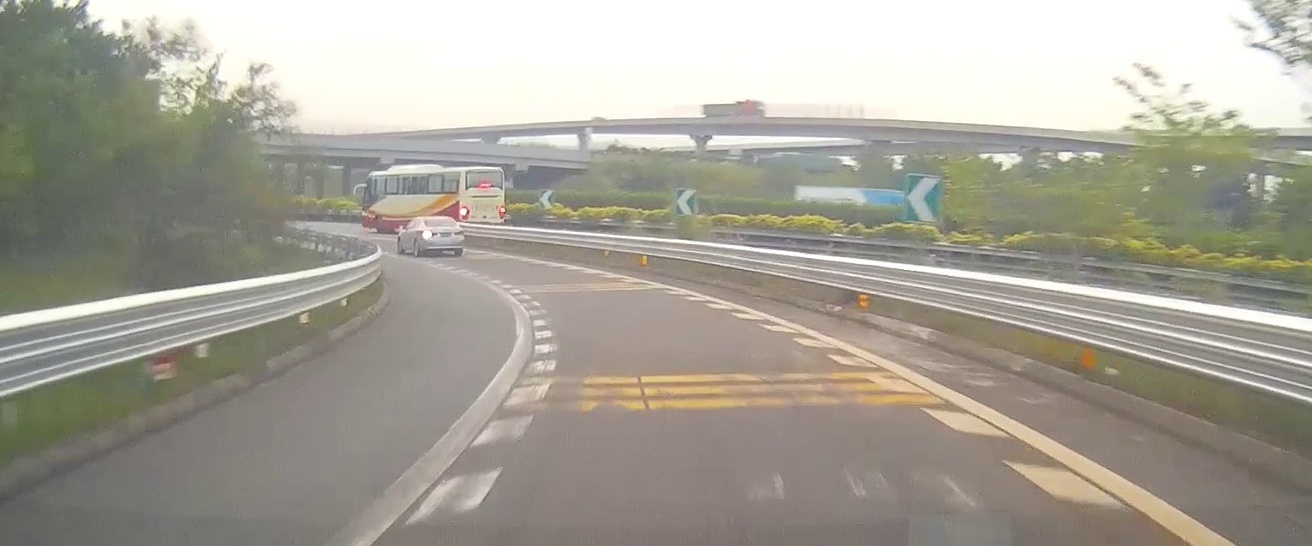L_light: (421, 230, 436, 237)
R_light: (454, 230, 464, 236)
T_light: (435, 218, 443, 220)
day-left: (419, 216, 465, 256)
